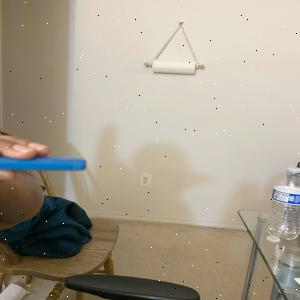Diamond-E-Ciggirate: (0, 150, 93, 174)
